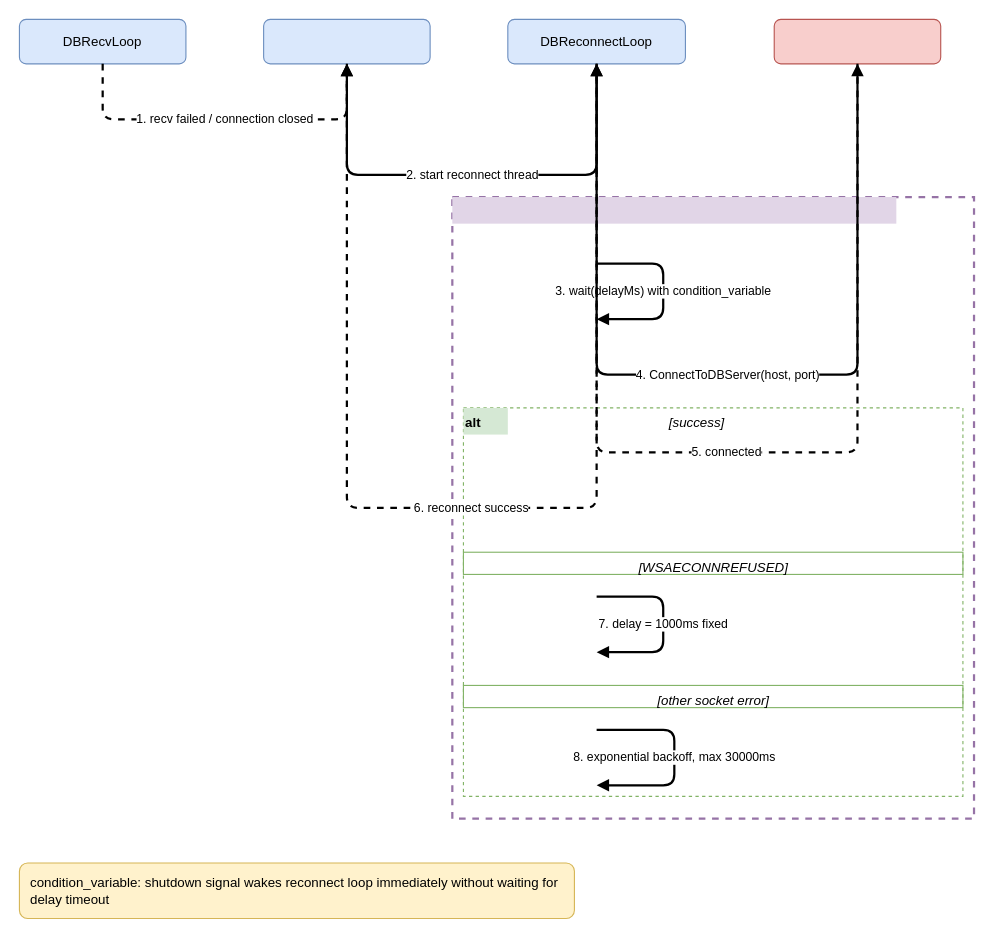
Some shapes in this 995 by 938 pixel diagram are drawn without their labels. Each missing label, with the centre of its shape:
DBServer: the point at 857,41
loop [while server running & DB disconnected]: the point at 674,209
TestServer: the point at 346,41
